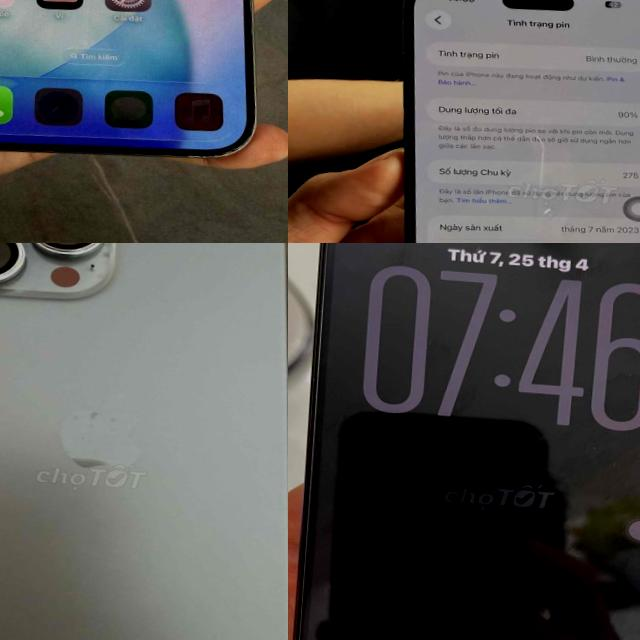gen_12_13: (0, 243, 288, 640)
gen_15: (288, 243, 640, 640), (367, 0, 640, 243), (0, 0, 280, 180)
